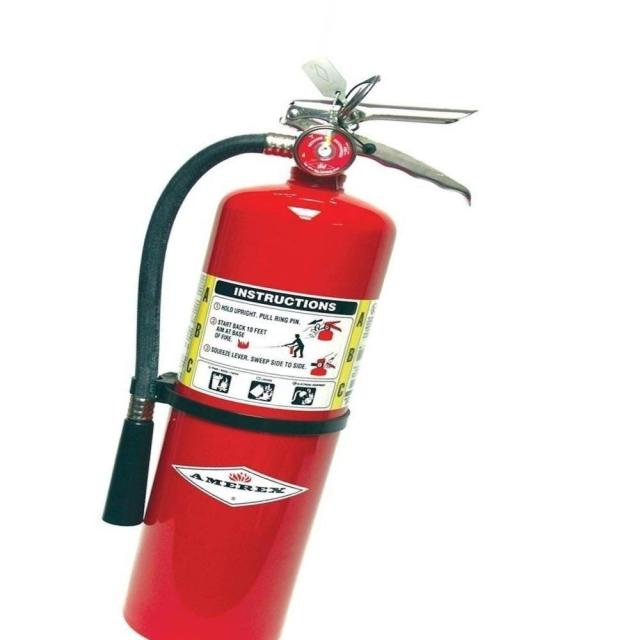Fire-Extinguisher: (98, 54, 480, 640)
